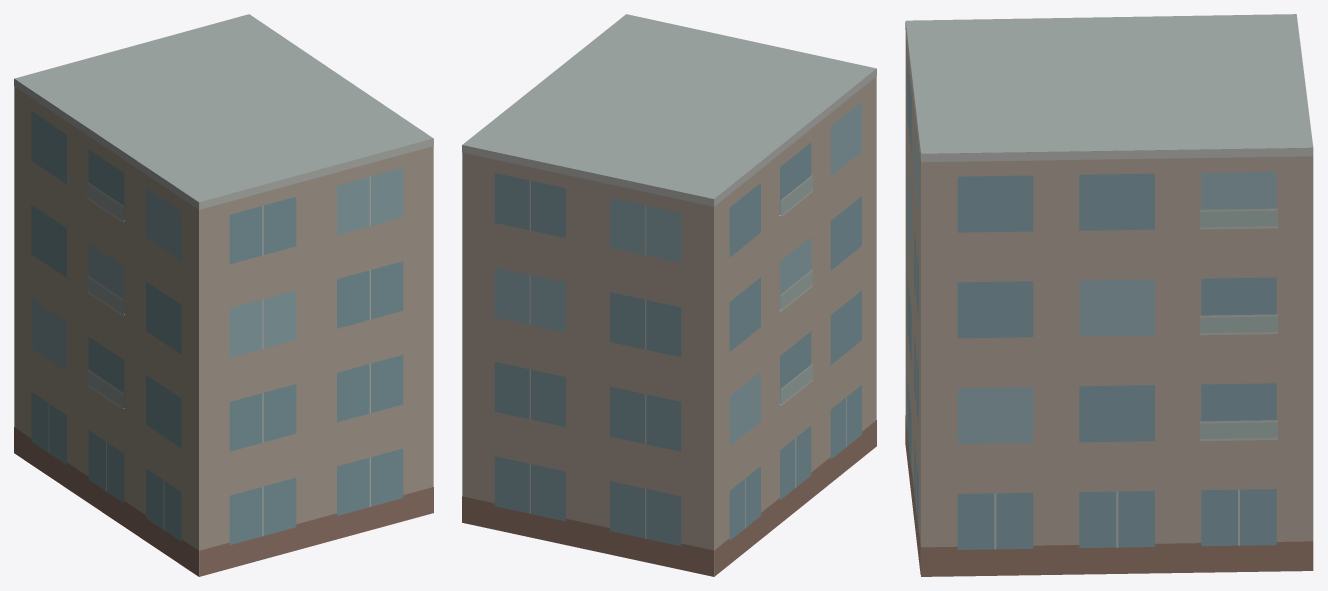
The model's file is survey-upis-32704208.glb.
3 renders of one model, left to right at view 1: azimuth 30°, elevation 25°; view 2: azimuth 150°, elevation 25°; view 3: azimuth 270°, elevation 25°, orthographic. The views are drawn at different scales.
Visible parts, largest first — view 1: survey-upis-32704208.tmp; view 2: survey-upis-32704208.tmp; view 3: survey-upis-32704208.tmp.
Boxes of the visible parts, x1,y1,x2,y2 form: survey-upis-32704208.tmp: [14, 14, 433, 576]; survey-upis-32704208.tmp: [462, 14, 876, 576]; survey-upis-32704208.tmp: [905, 14, 1313, 576].
Size of the model in its own units: 8.58 by 12.1 by 10.58.
